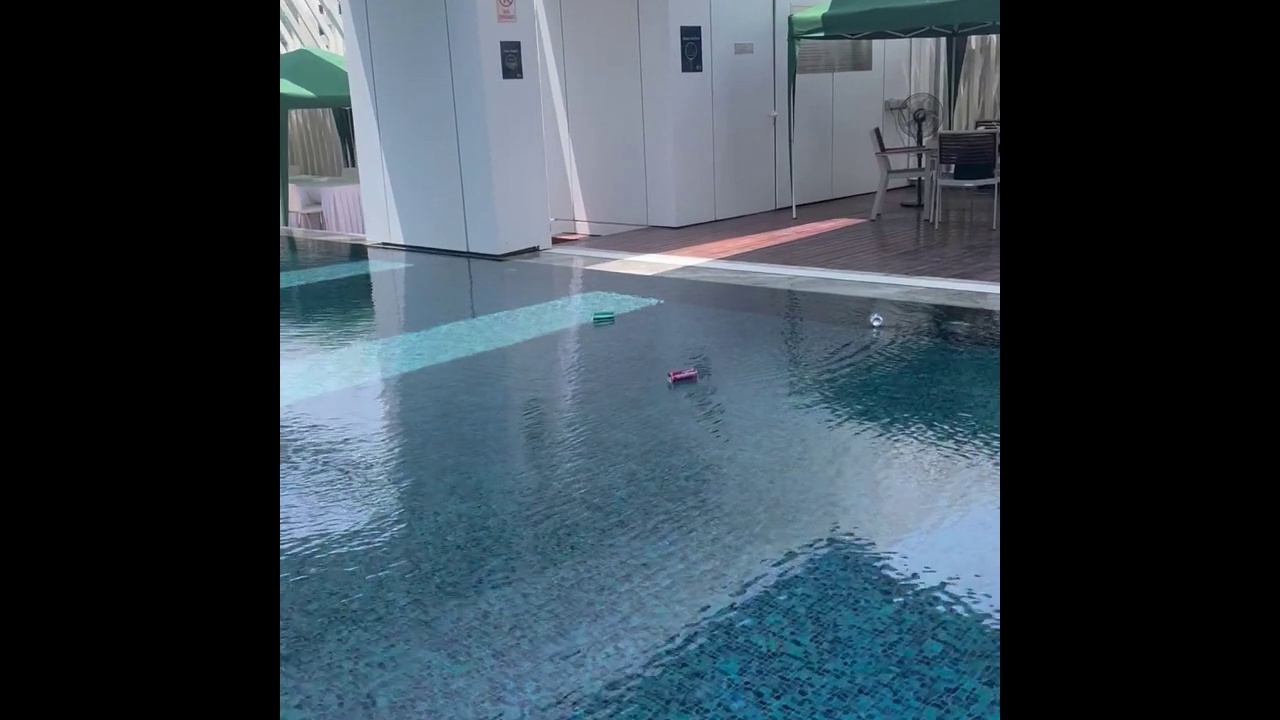debris: (662, 366, 702, 393), (588, 309, 618, 328), (865, 311, 886, 329)
